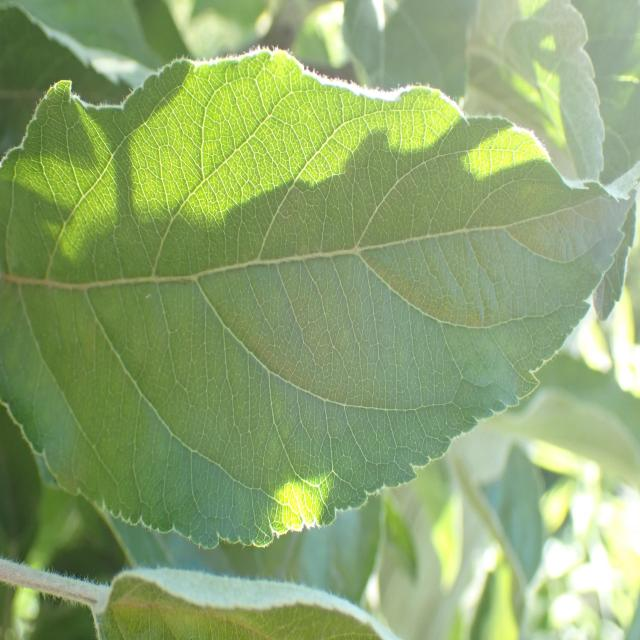healthy: (1, 46, 634, 549), (96, 566, 402, 640)
